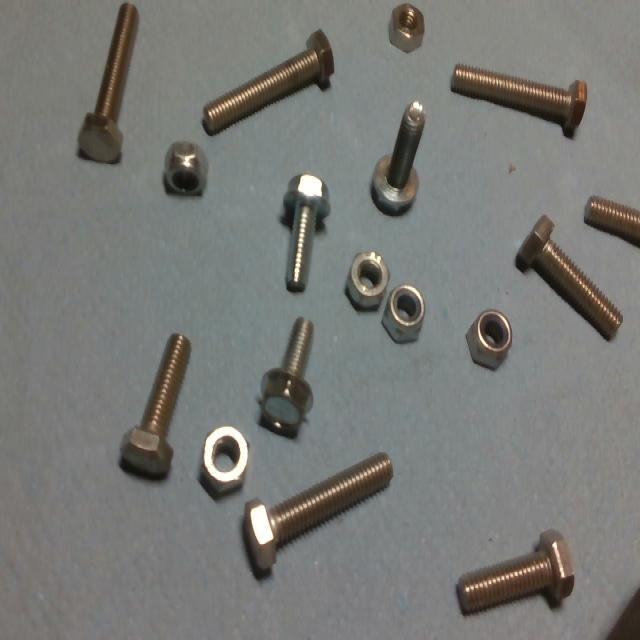Bolt: (241, 453, 393, 579), (514, 217, 623, 343), (202, 31, 334, 133), (120, 333, 191, 476), (450, 63, 586, 137), (78, 3, 139, 163), (455, 533, 574, 612), (257, 317, 313, 439), (370, 101, 425, 216), (282, 175, 330, 293), (584, 196, 638, 247)
Nut: (199, 425, 249, 499), (343, 251, 390, 312), (465, 309, 512, 369), (163, 141, 207, 199), (383, 284, 424, 340), (386, 3, 425, 55)
